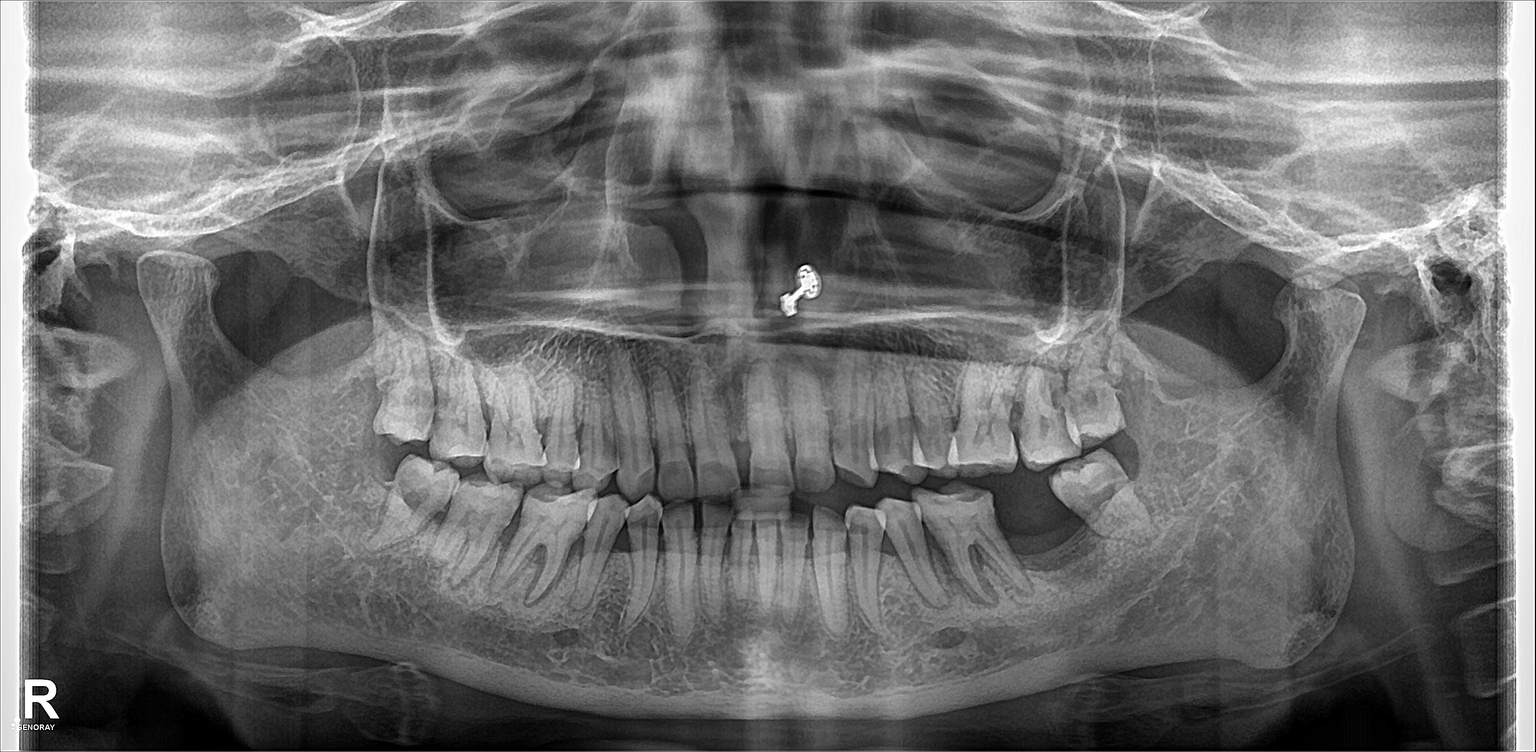Missing Tooth: (1002, 488, 1073, 584)
